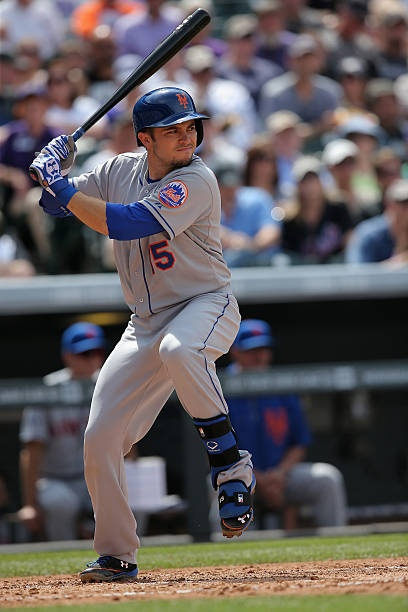bita: (61, 15, 205, 147)
